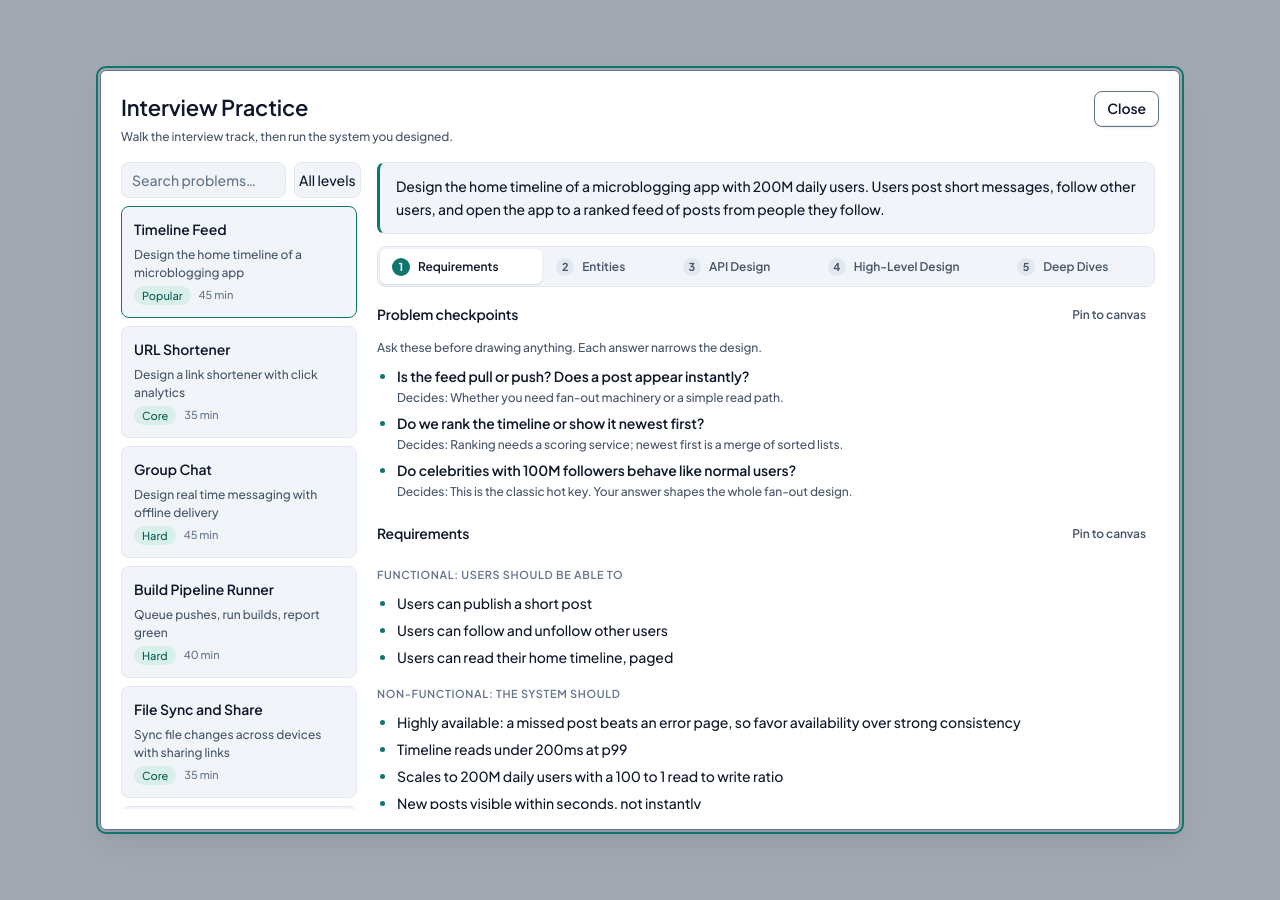
Test: InterviewPractice › walks the full interview track
Click the tab with class "iv-step" showing "3 API Design".
click(742, 267)  # box x1=671 y1=249 x2=814 y2=284
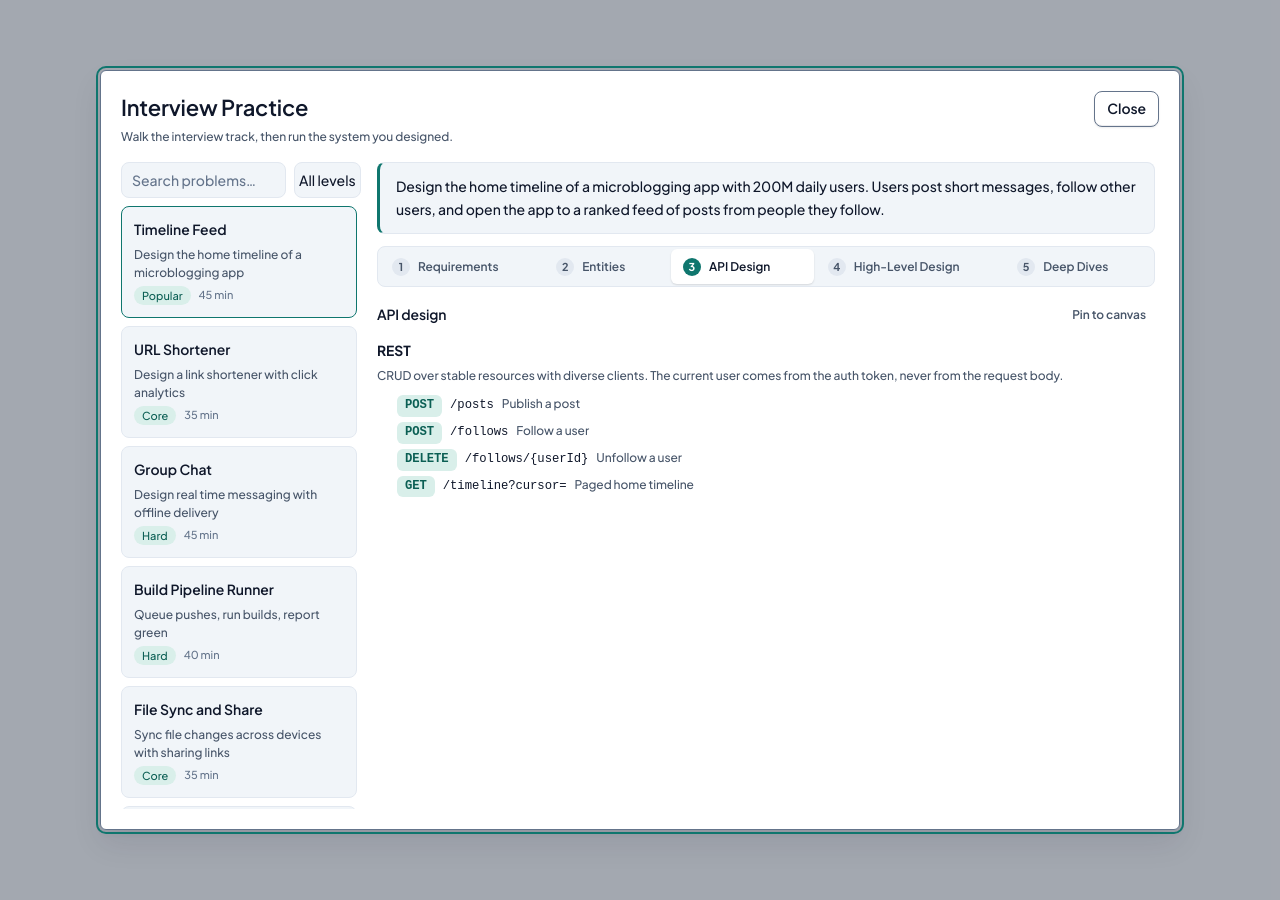
Click the tab with class "iv-step" showing "5 Deep Dives".
click(1078, 267)  # box x1=1005 y1=249 x2=1152 y2=284
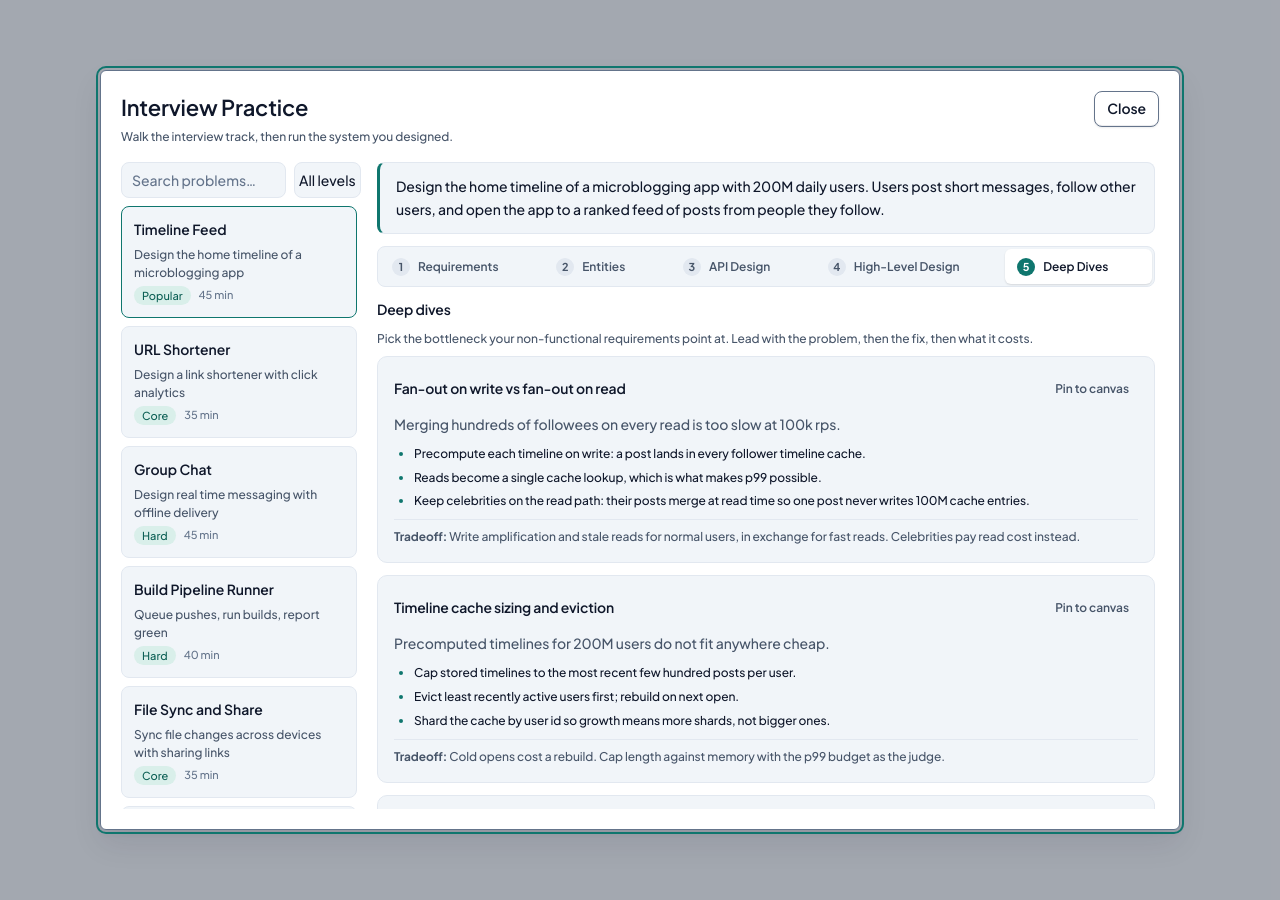
Check: the text "Tradeoff:" is shown, box x1=394 y1=529 x2=447 y2=544
